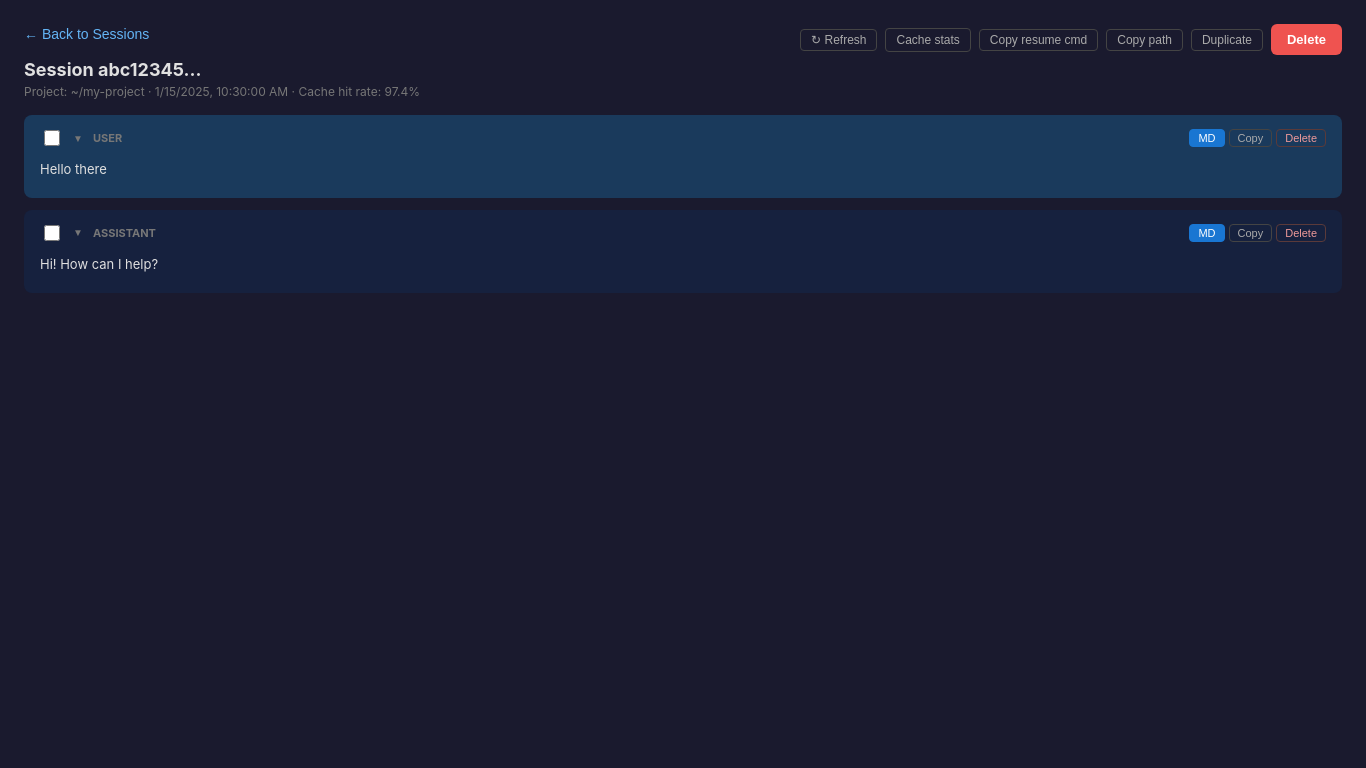
it: SessionDetail › cache stats panel › subagent sections › renders one section per subagent, labeled with type, description, and hit rate
The image size is (1366, 768).
Click the button "Cache stats": point(928, 40) [886, 28, 971, 52]
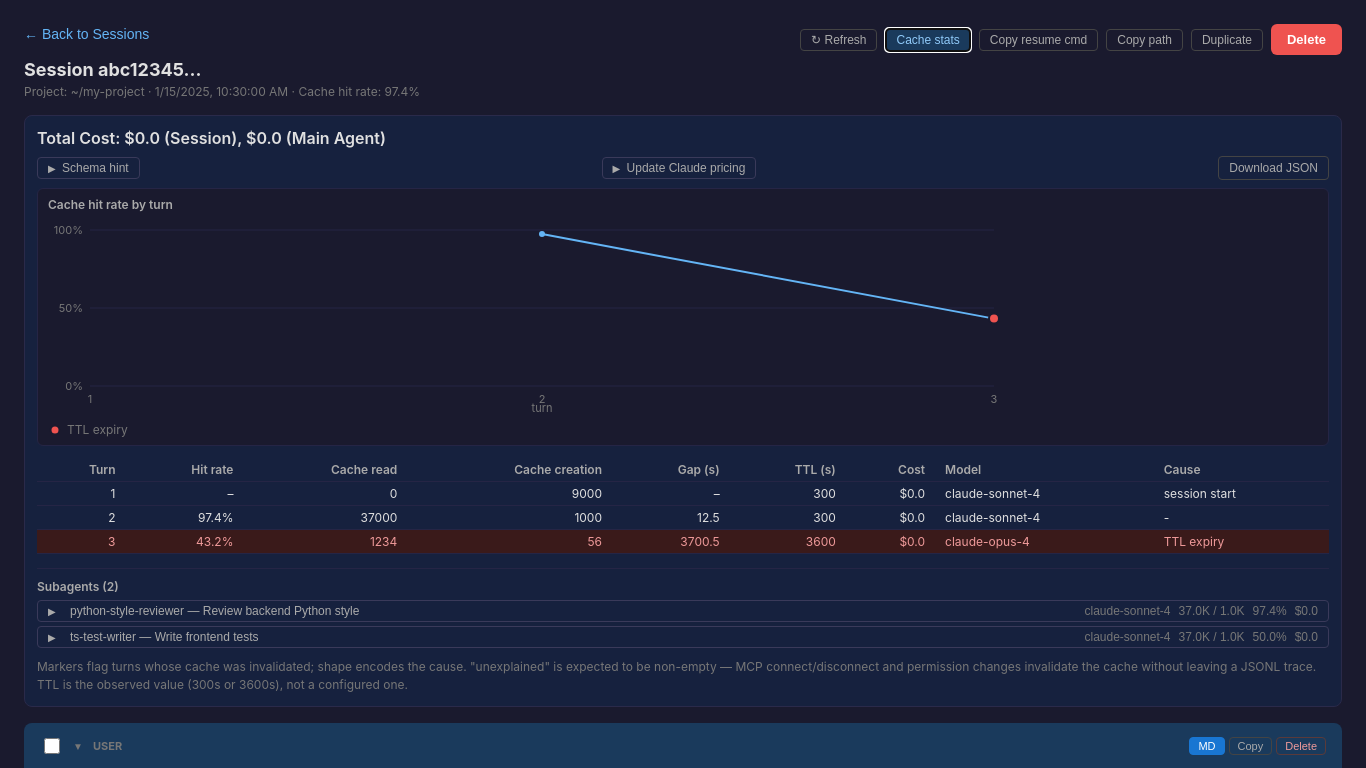
Check: the number of elements with class "cache-agent" is 2, box [37, 600, 1329, 622]; [37, 626, 1329, 648]
Check: the button "python-style-reviewer — Review backend Python style" shows "97.4%", box [37, 600, 1329, 622]
Check: the button "ts-test-writer — Write frontend tests" shows "50.0%", box [37, 626, 1329, 648]
